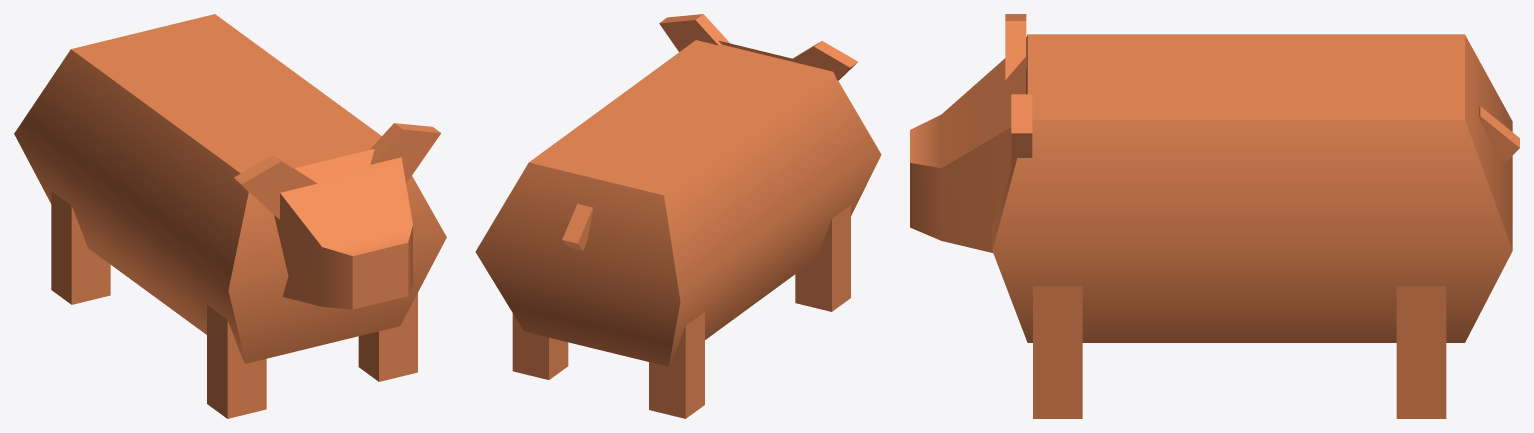
File: pig.fbx
3 views of the same model, side by side, from view 1: azimuth 30°, elevation 25°; view 2: azimuth 150°, elevation 25°; view 3: azimuth 270°, elevation 25° (orthographic). The views are drawn at different scales.
Parts seen in each view (by area): view 1: polySurface226; view 2: polySurface226; view 3: polySurface226.
Part boxes in pixels (x1,y1,x2,y2): polySurface226: (14, 14, 446, 418); polySurface226: (475, 14, 881, 418); polySurface226: (910, 14, 1519, 418).
Size of the model in its own units: 8.23 by 9.1 by 16.22.
Materials: 1 (1 with a texture image).
